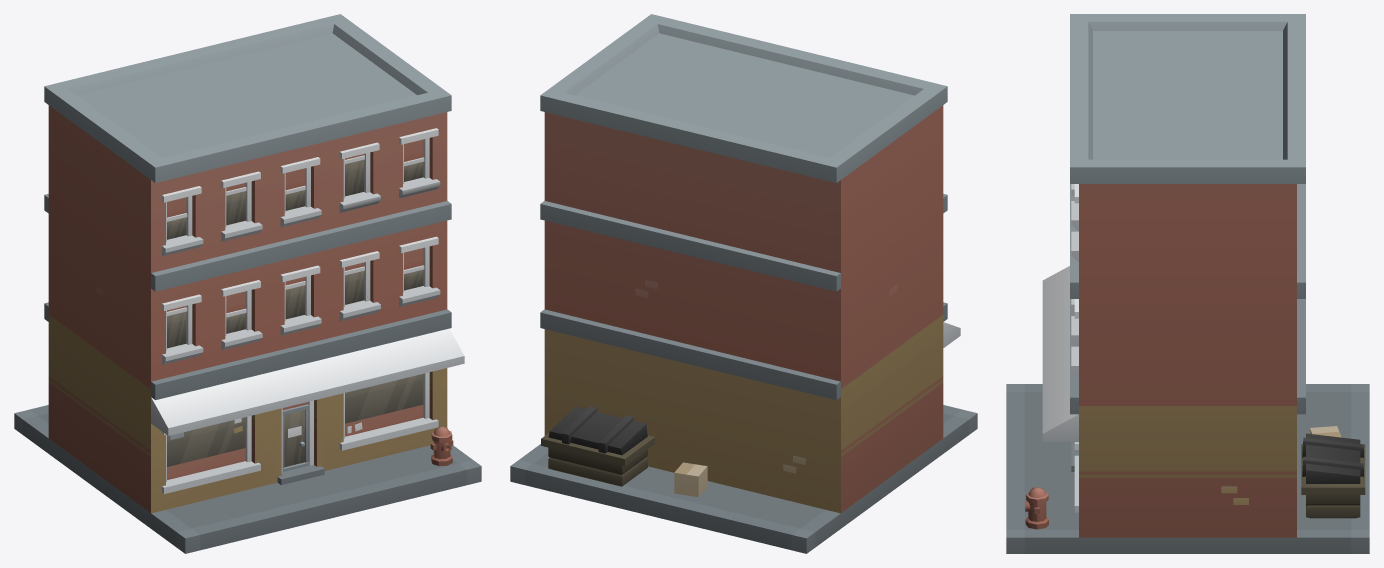
Rendered from cairo-walkup-a.glb.
The picture shows the model from 3 angles, left to right: view 1: azimuth 30°, elevation 25°; view 2: azimuth 150°, elevation 25°; view 3: azimuth 270°, elevation 25°; orthographic projection. The views are drawn at different scales.
Visible parts, largest first — view 1: building_E; view 2: building_E; view 3: building_E.
Boxes of the visible parts, x1,y1,x2,y2 form: building_E: (14, 14, 481, 553); building_E: (510, 14, 977, 553); building_E: (1006, 14, 1369, 553).
Size of the model in its own units: 2.01 by 2.35 by 2.
Materials: 2 (2 with a texture image).
